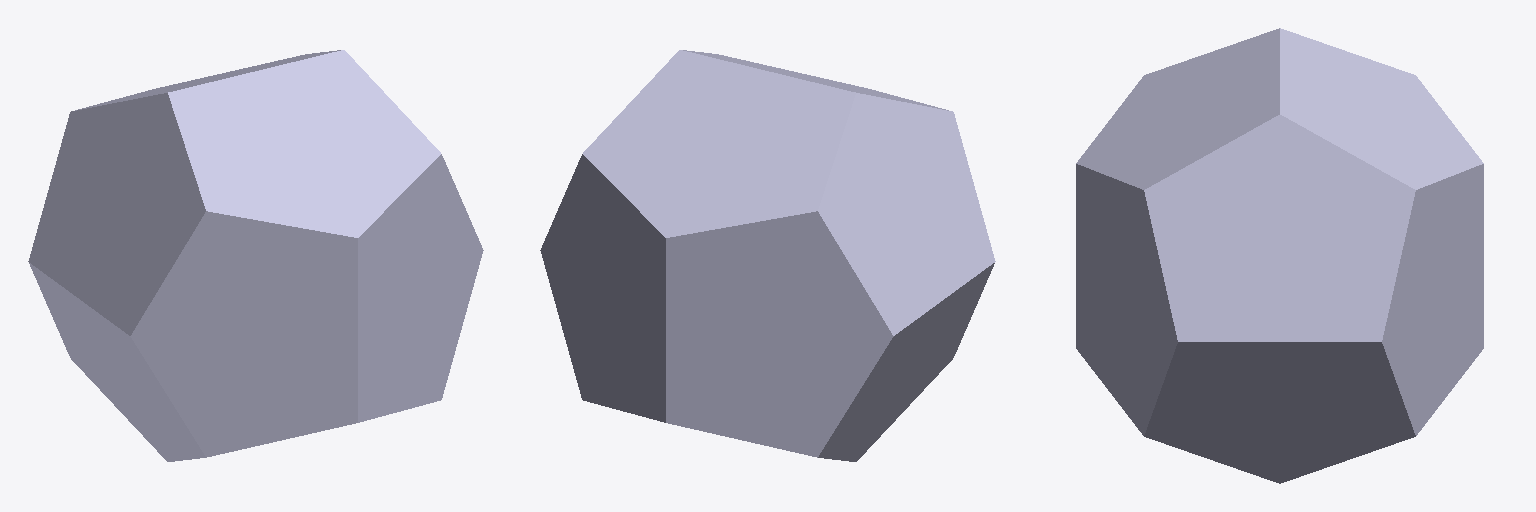
File: pyrite-pyritohedron.obj
3 renders of one model, left to right at view 1: azimuth 30°, elevation 25°; view 2: azimuth 150°, elevation 25°; view 3: azimuth 270°, elevation 25°, orthographic.
Bounding box in the file's own units: 2.24 × 2.24 × 2.24.